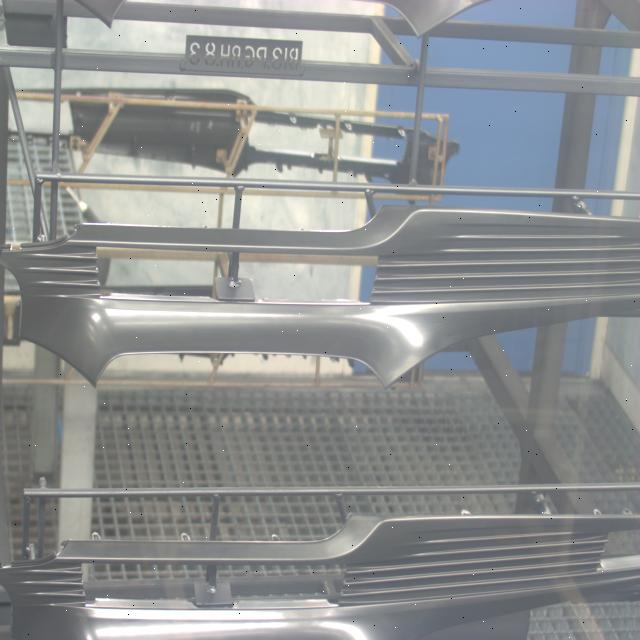Non_primered: (0, 211, 635, 389)
